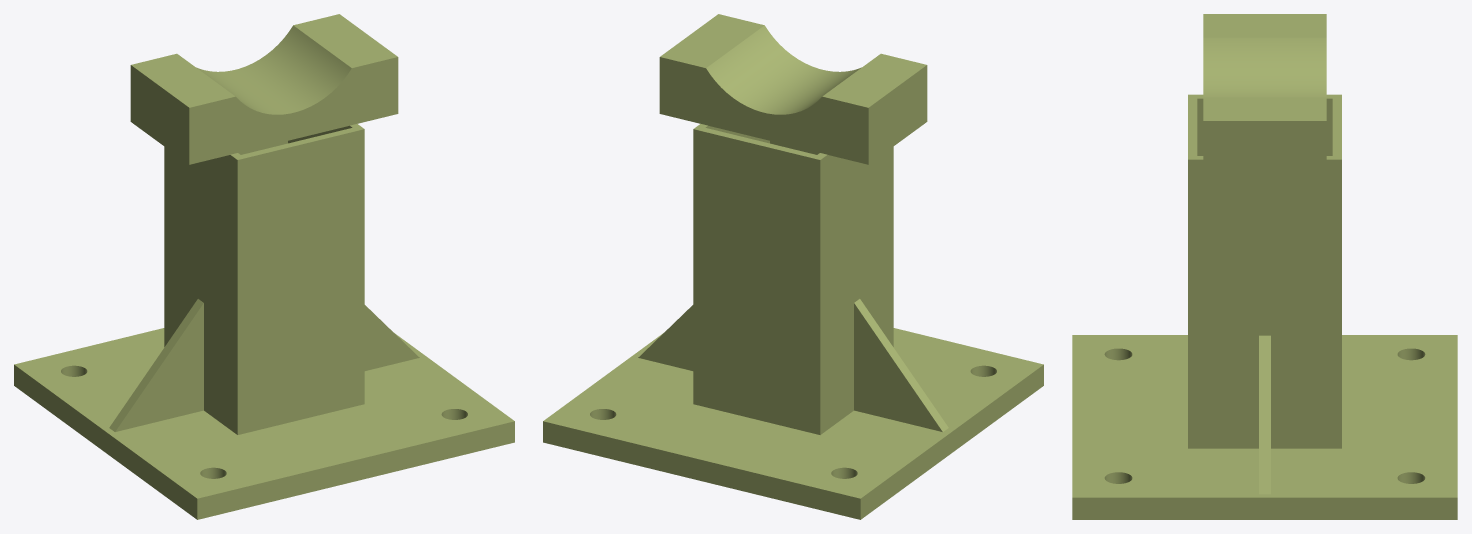
The model's file is step_66.glb.
The picture shows the model from 3 angles, left to right: view 1: azimuth 30°, elevation 25°; view 2: azimuth 150°, elevation 25°; view 3: azimuth 270°, elevation 25°; orthographic projection. The views are drawn at different scales.
Visible parts, largest first — view 1: part__pipe support SP-101, short; view 2: part__pipe support SP-101, short; view 3: part__pipe support SP-101, short.
Part boxes in pixels (bbox=[...]): part__pipe support SP-101, short: bbox=[14, 14, 514, 519]; part__pipe support SP-101, short: bbox=[543, 14, 1043, 519]; part__pipe support SP-101, short: bbox=[1072, 14, 1457, 519].
Bounding box in the file's own units: 250 × 266 × 250.
